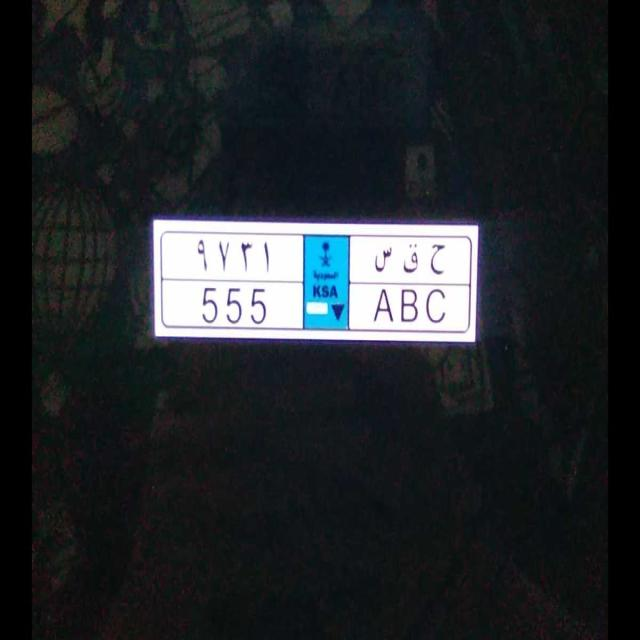license_plate: (163, 280, 466, 334)
